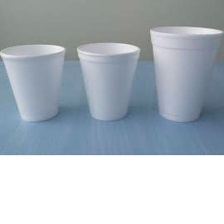paper_cup: (145, 21, 224, 128), (73, 38, 144, 124), (0, 40, 68, 126)
